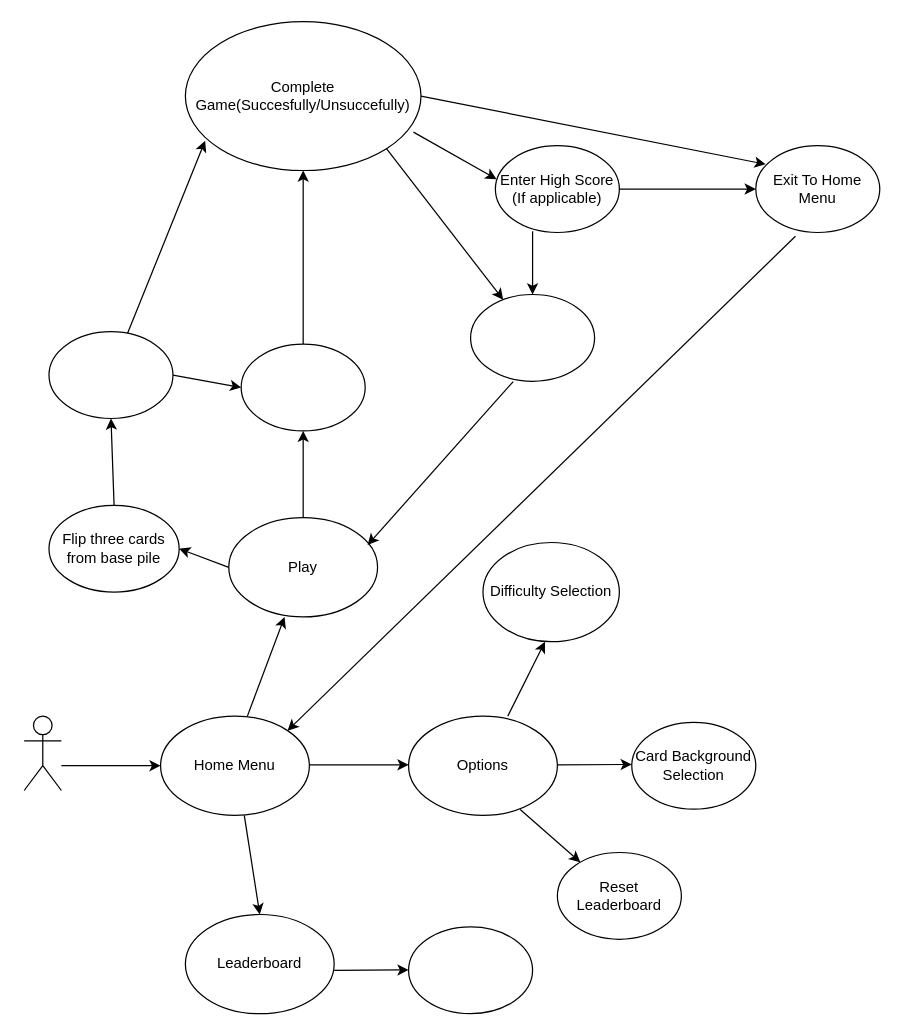
This 901x1035 diagram has some shape labels left out. The shapes that lost their labels are listed below. From the top down, each one's centre as x and y in pixels, then its label:
point 532,337: Play Again
point 110,374: Move card from base pile to one in game pile
point 302,387: Move card from one pile to another
point 42,752: Player
point 470,970: View Leaderboard
